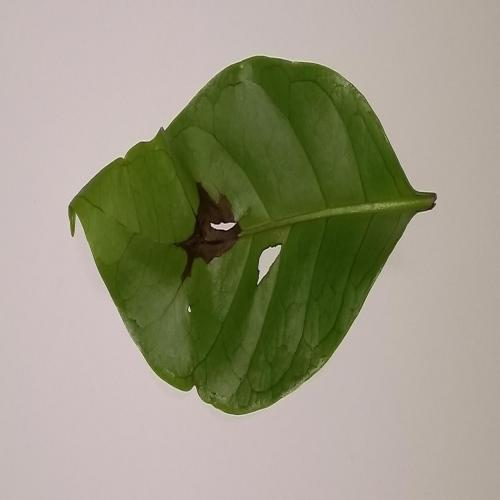miner: (180, 182, 241, 278)
